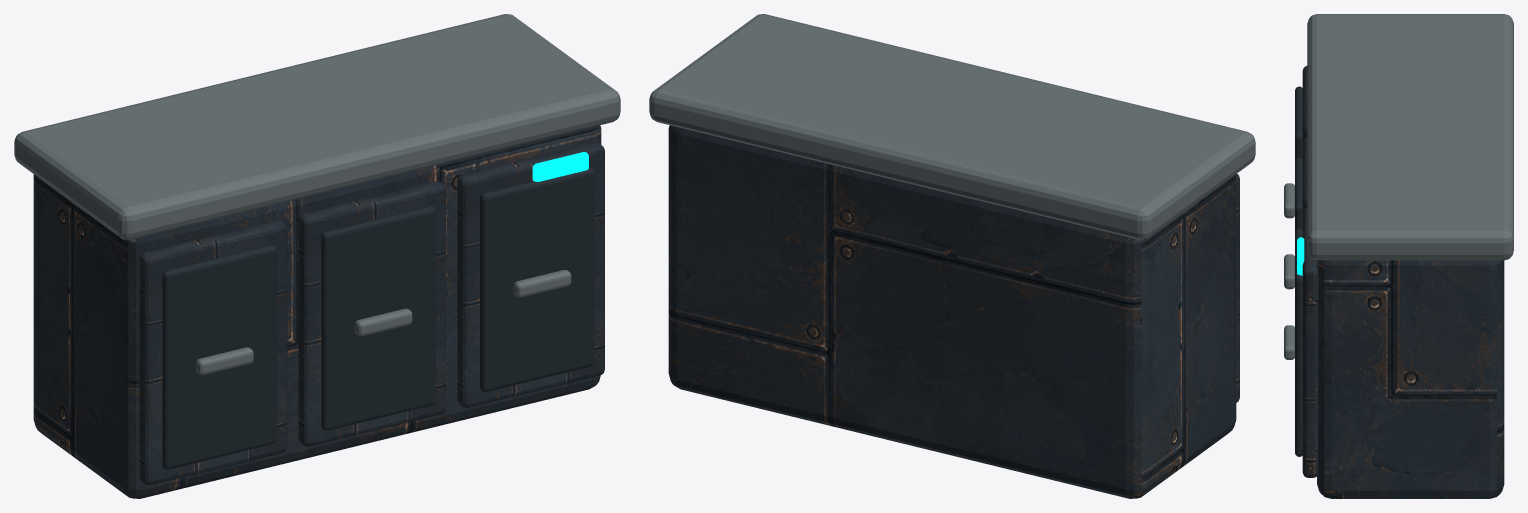
File: APT_Cabinet_Low_Service.glb
The picture shows the model from 3 angles, left to right: view 1: azimuth 30°, elevation 25°; view 2: azimuth 150°, elevation 25°; view 3: azimuth 270°, elevation 25°; orthographic projection. The views are drawn at different scales.
Parts seen in each view (by area): view 1: APT_Cabinet_Low_Service_Top, APT_Cabinet_Low_Service_Body, APT_Cabinet_Low_Service_Door_0_Inset, APT_Cabinet_Low_Service_Door_1_Inset, APT_Cabinet_Low_Service_Door_2_Inset, APT_Cabinet_Low_Service_Door_0_Face, APT_Cabinet_Low_Service_Door_1_Face, APT_Cabinet_Low_Service_Door_2_Face, APT_Cabinet_Low_Service_Status, APT_Cabinet_Low_Service_Door_1_Handle, APT_Cabinet_Low_Service_Door_2_Handle, APT_Cabinet_Low_Service_Door_0_Handle; view 2: APT_Cabinet_Low_Service_Body, APT_Cabinet_Low_Service_Top, APT_Cabinet_Low_Service_Door_0_Face; view 3: APT_Cabinet_Low_Service_Top, APT_Cabinet_Low_Service_Body, APT_Cabinet_Low_Service_Door_2_Face, APT_Cabinet_Low_Service_Door_2_Inset, APT_Cabinet_Low_Service_Door_1_Inset, APT_Cabinet_Low_Service_Door_0_Inset, APT_Cabinet_Low_Service_Door_0_Face, APT_Cabinet_Low_Service_Door_1_Face, APT_Cabinet_Low_Service_Door_0_Handle, APT_Cabinet_Low_Service_Door_1_Handle, APT_Cabinet_Low_Service_Door_2_Handle, APT_Cabinet_Low_Service_Status.
Part boxes in pixels (x1,y1,x2,y2): APT_Cabinet_Low_Service_Top: (14, 14, 620, 239); APT_Cabinet_Low_Service_Body: (33, 125, 601, 498); APT_Cabinet_Low_Service_Door_0_Inset: (162, 245, 276, 469); APT_Cabinet_Low_Service_Door_1_Inset: (321, 206, 435, 430); APT_Cabinet_Low_Service_Door_2_Inset: (480, 167, 594, 391); APT_Cabinet_Low_Service_Door_0_Face: (139, 220, 287, 485); APT_Cabinet_Low_Service_Door_1_Face: (298, 181, 445, 446); APT_Cabinet_Low_Service_Door_2_Face: (457, 142, 604, 407); APT_Cabinet_Low_Service_Status: (532, 152, 588, 181); APT_Cabinet_Low_Service_Door_1_Handle: (354, 308, 412, 336); APT_Cabinet_Low_Service_Door_2_Handle: (513, 269, 571, 297); APT_Cabinet_Low_Service_Door_0_Handle: (196, 347, 253, 375); APT_Cabinet_Low_Service_Body: (668, 125, 1236, 498); APT_Cabinet_Low_Service_Top: (649, 14, 1255, 239); APT_Cabinet_Low_Service_Door_0_Face: (1236, 174, 1239, 402); APT_Cabinet_Low_Service_Top: (1307, 14, 1513, 260); APT_Cabinet_Low_Service_Body: (1317, 260, 1504, 498); APT_Cabinet_Low_Service_Door_2_Face: (1302, 207, 1317, 477); APT_Cabinet_Low_Service_Door_2_Inset: (1295, 228, 1302, 456); APT_Cabinet_Low_Service_Door_1_Inset: (1295, 157, 1302, 231); APT_Cabinet_Low_Service_Door_0_Inset: (1295, 86, 1302, 160); APT_Cabinet_Low_Service_Door_0_Face: (1302, 66, 1307, 140); APT_Cabinet_Low_Service_Door_1_Face: (1302, 137, 1307, 211); APT_Cabinet_Low_Service_Door_0_Handle: (1284, 183, 1294, 218); APT_Cabinet_Low_Service_Door_1_Handle: (1284, 254, 1294, 289); APT_Cabinet_Low_Service_Door_2_Handle: (1284, 325, 1294, 359); APT_Cabinet_Low_Service_Status: (1297, 237, 1304, 275).
Bounding box in the file's own units: 1.64 × 0.94 × 0.7125.
4 materials, 1 textured.
